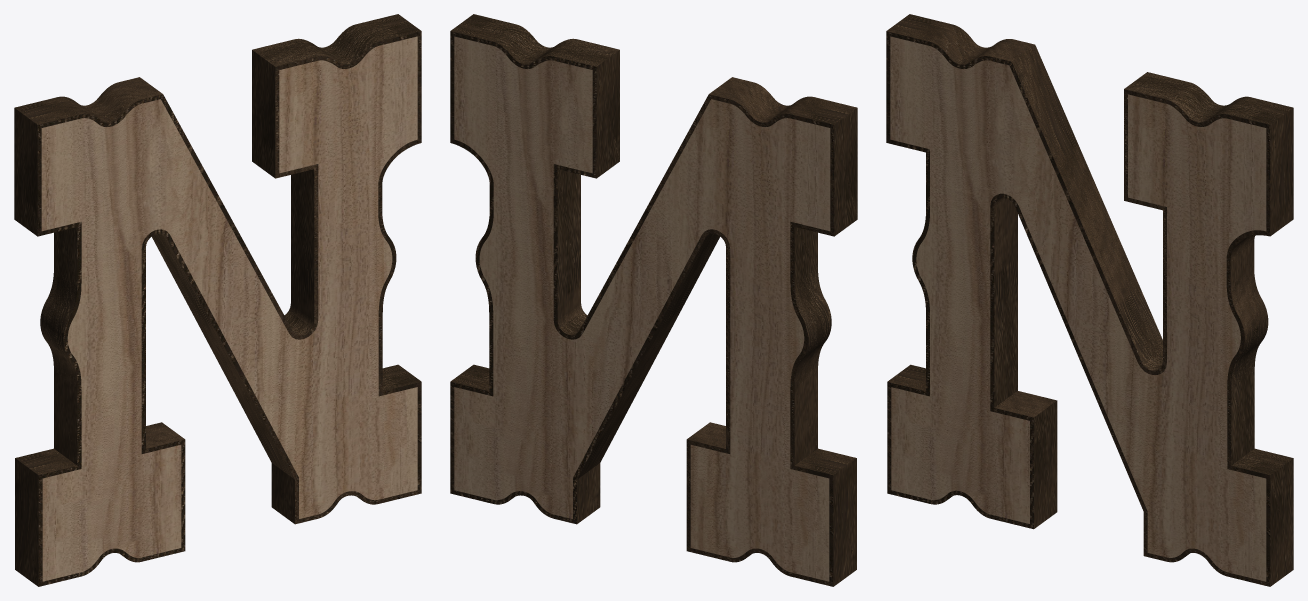
3 renders of one model, left to right at view 1: azimuth 30°, elevation 25°; view 2: azimuth 150°, elevation 25°; view 3: azimuth 330°, elevation 25°, orthographic.
Visible parts, largest first — view 1: N, N_outline; view 2: N, N_outline; view 3: N, N_outline.
Boxes of the visible parts, x1=… form: N: x1=41, y1=36, x2=417, y2=581; N_outline: x1=14, y1=14, x2=421, y2=586; N: x1=454, y1=36, x2=830, y2=581; N_outline: x1=450, y1=14, x2=857, y2=586; N: x1=890, y1=36, x2=1266, y2=581; N_outline: x1=886, y1=14, x2=1293, y2=586.
Bounding box in the file's own units: 94.59 × 109 × 10.
Materials: 2 (2 with a texture image).
